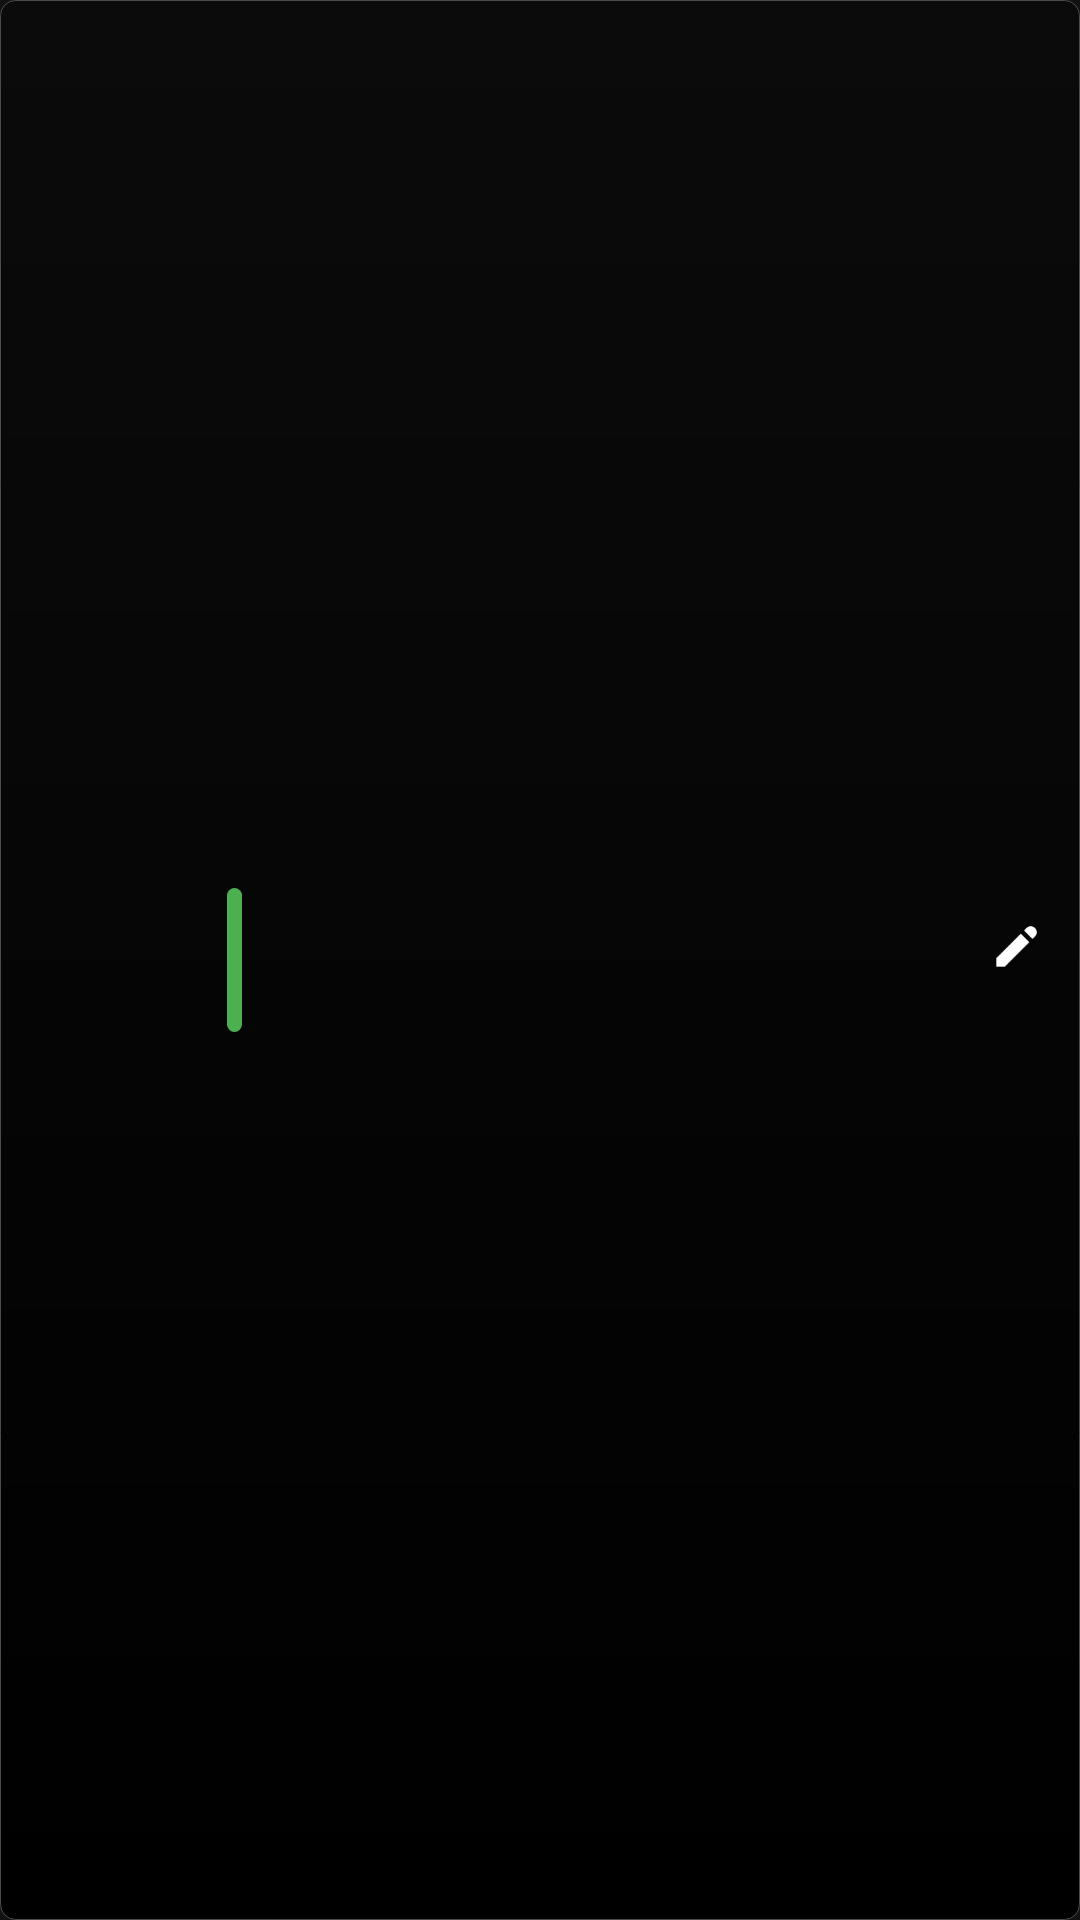

Where icons sit on this 1080w x 1920h app screen, as (x1, y1, x2, y2):
edit: (996, 926, 1037, 967)
